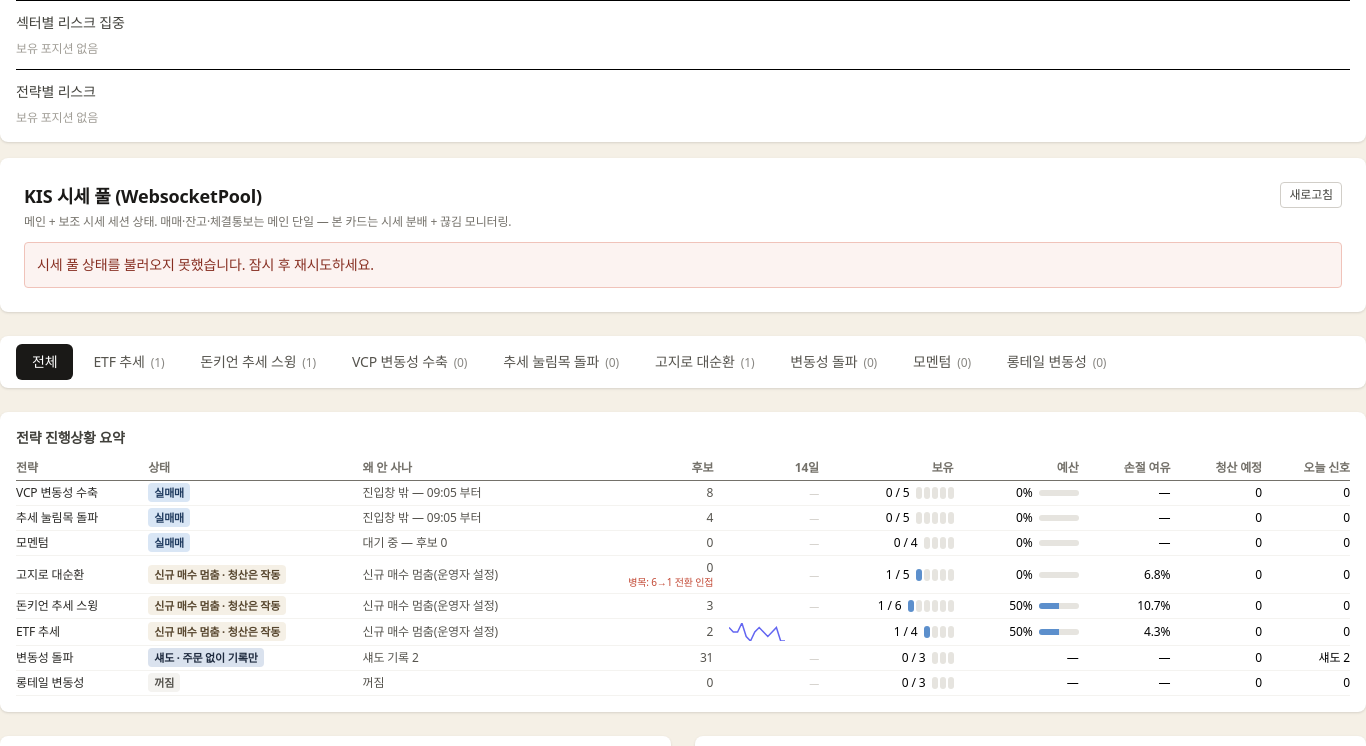
M10 — 전략 탭에서 깔때기·후보·신호는 한 번만, 모순 문구 0 › 돈키언 탭(멈춤) — 깔때기 1(합집합 단계가 한 번) · 펼쳐도 「진입 대기」 0
The width and height of the screenshot is (1366, 746).
(page scrolled)
Click the button "돈키언 추세 스윙(1)" at (258, 362), box top-left (184, 344), bottom-right (332, 380)
(page scrolled)
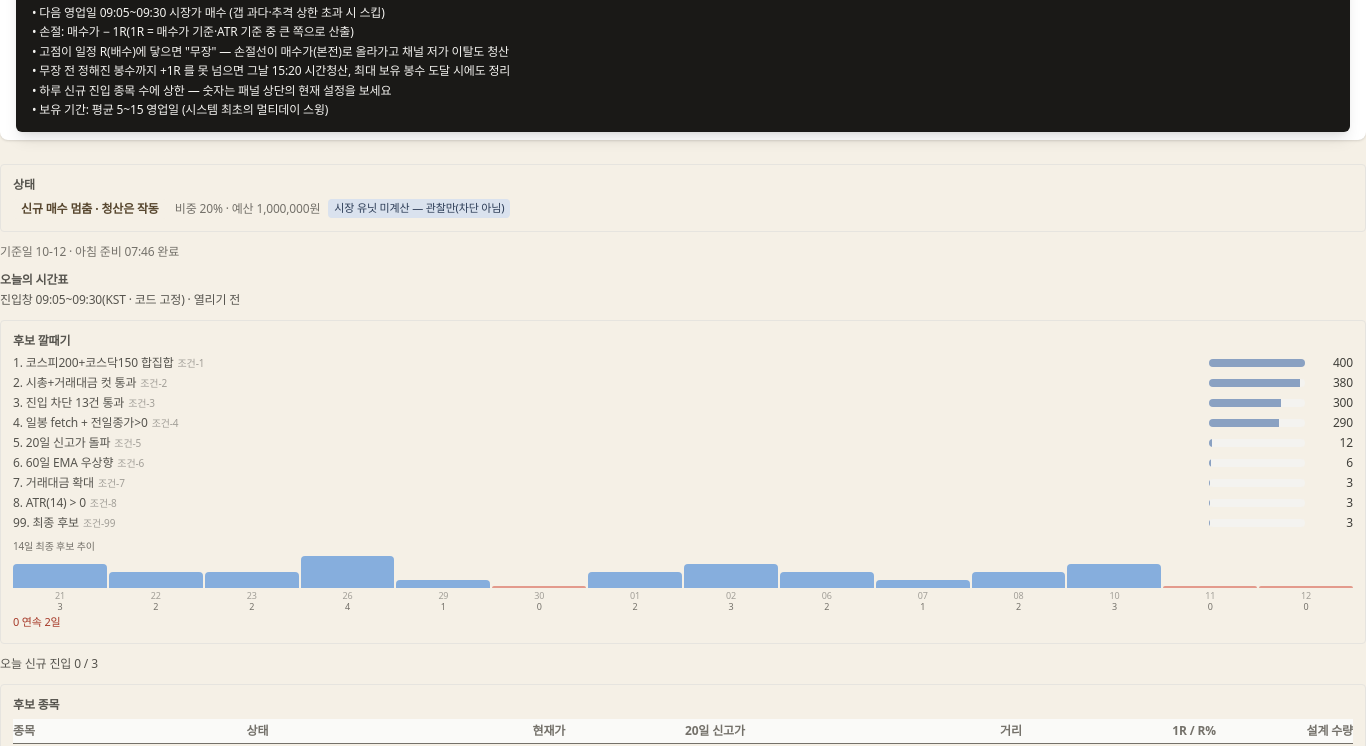
Expected: the text "코스피200+코스닥150 합집합" is shown, top-left (26, 354), bottom-right (174, 370)
Expected: the text "코스피200+코스닥150 합집합" is shown once, top-left (13, 354), bottom-right (204, 370)
